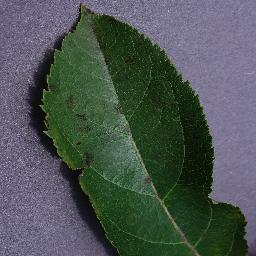apple healthy: (37, 1, 250, 255)
